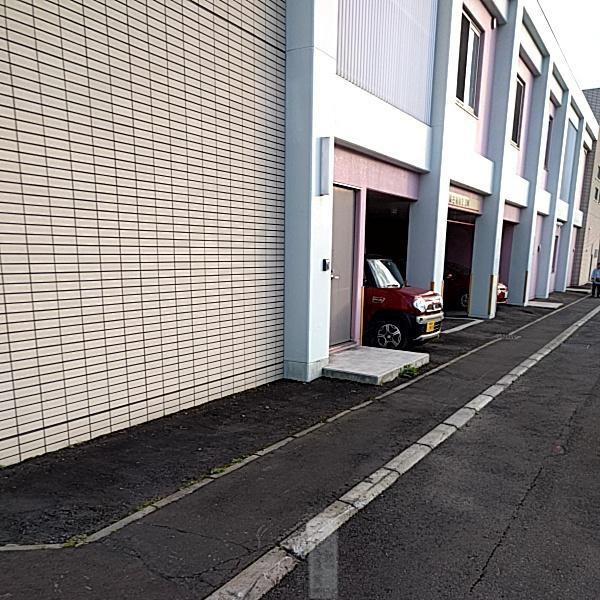D20: (156, 527, 272, 584)
